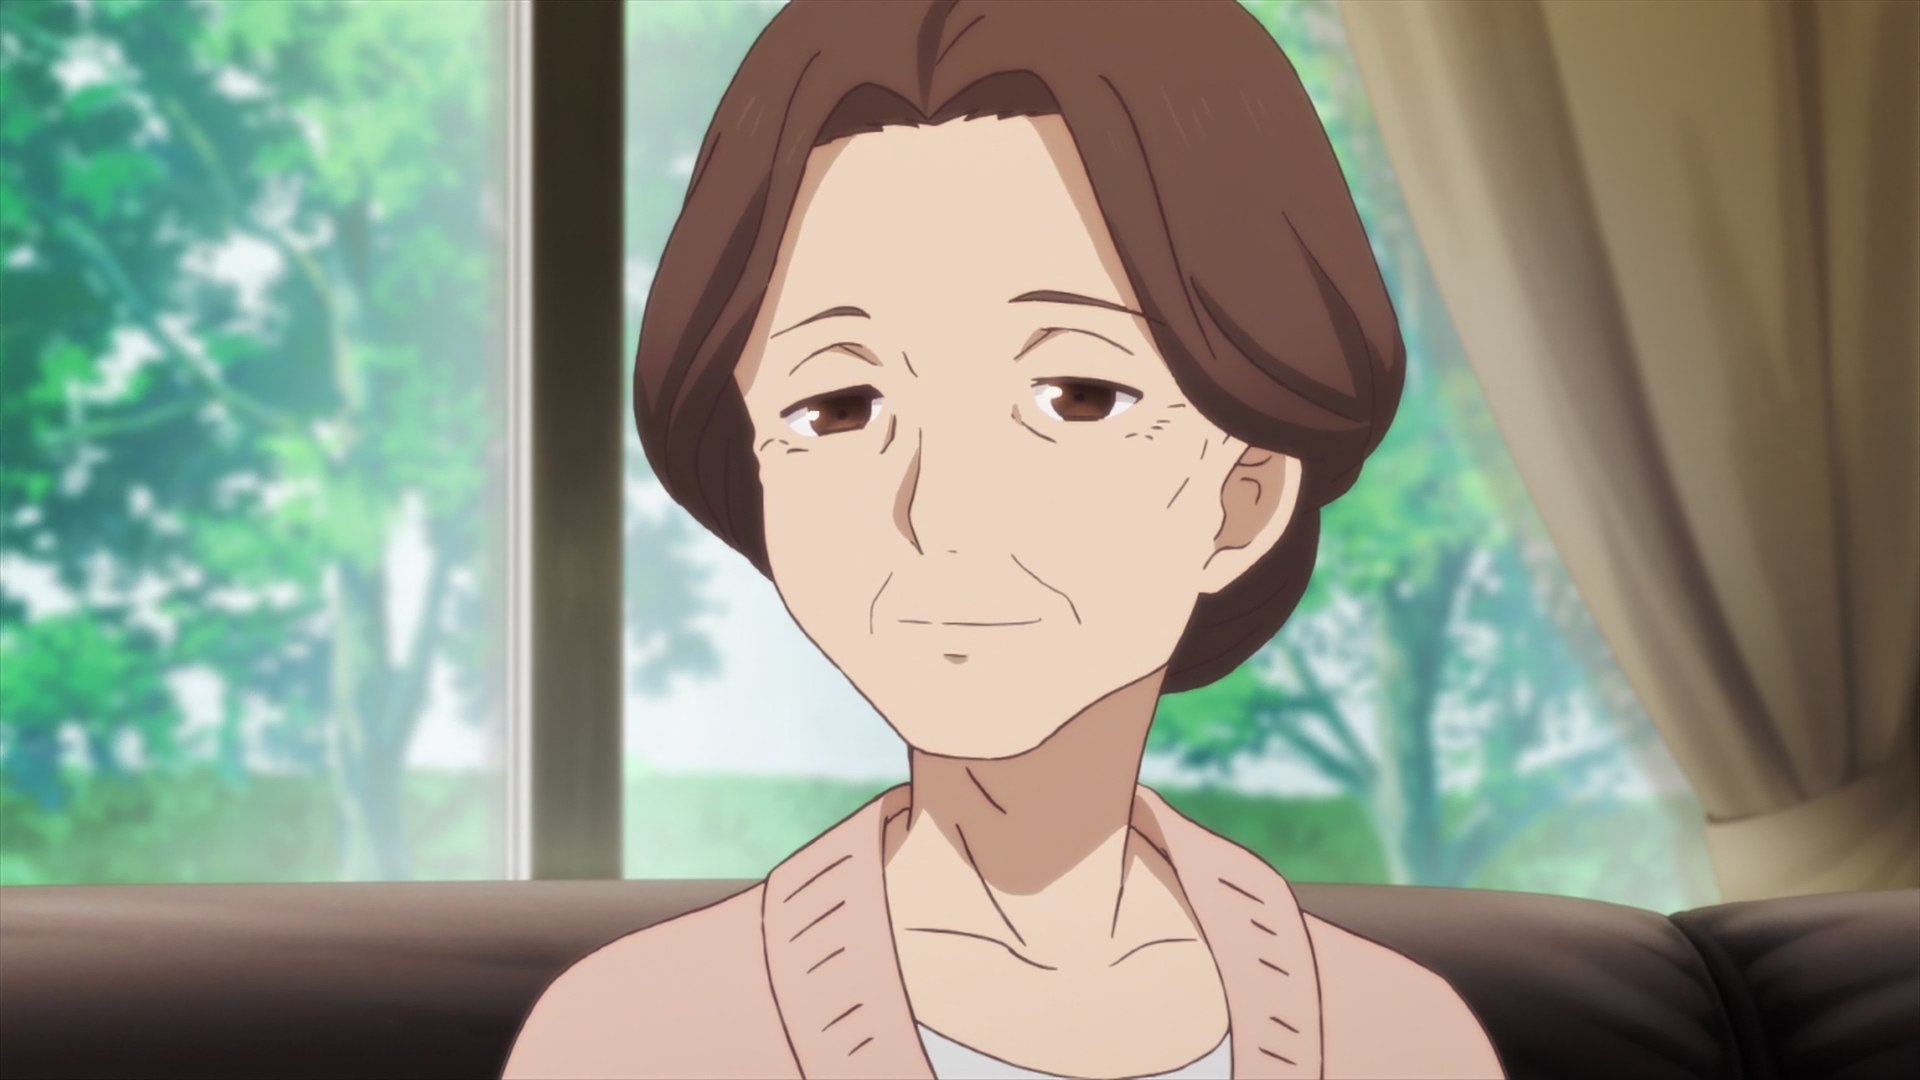其他: (502, 1, 1509, 1080)
